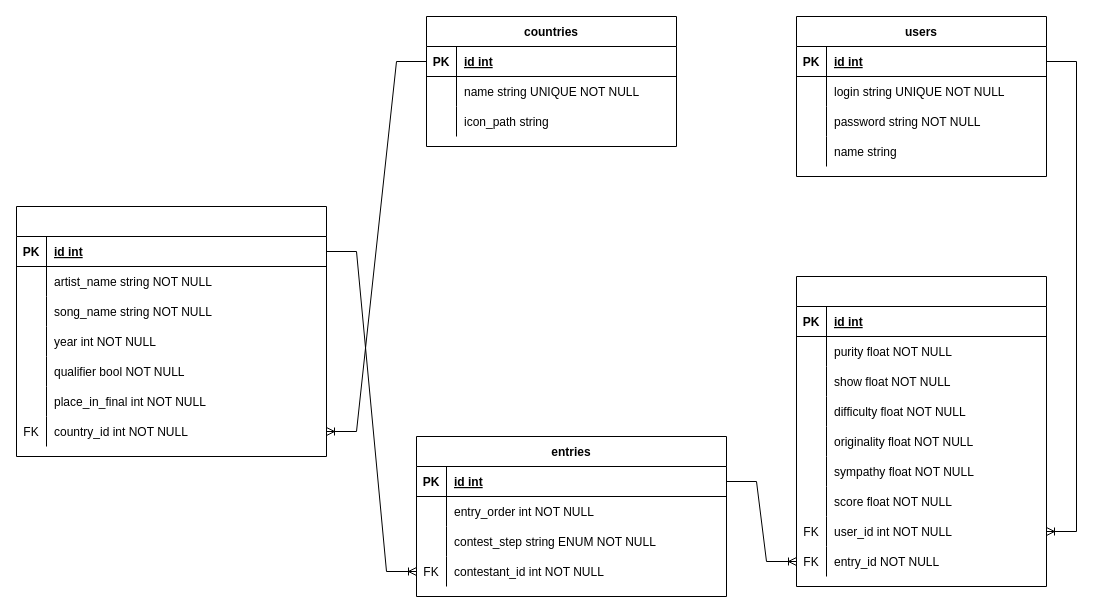
This 1093x613 diagram has some shape labels left out. The shapes that lost their labels are listed below. From the top down, each one's box as (x1, y1, x2, y2) in pixels, then its label:
(16, 206, 326, 456): contestants
(796, 276, 1046, 586): ratings
